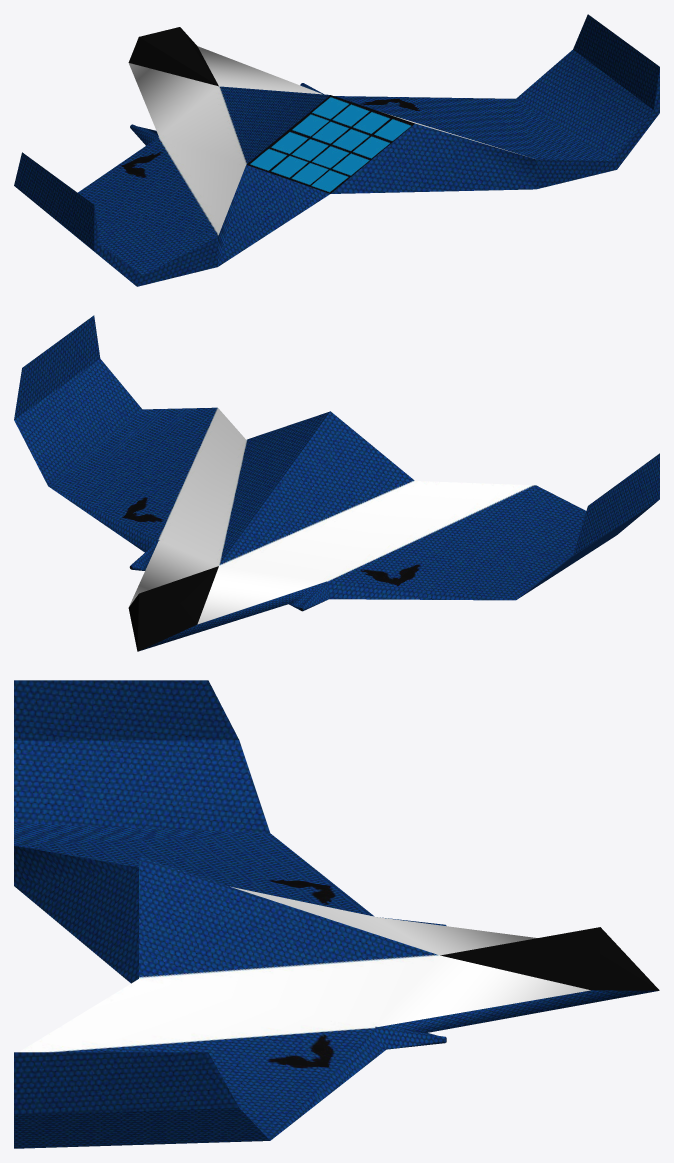
Rendered from spaceship2.fbx.
The picture shows the model from 3 angles, top to bottom: view 1: azimuth 30°, elevation 25°; view 2: azimuth 150°, elevation 25°; view 3: azimuth 270°, elevation 25°; orthographic projection. The views are drawn at different scales.
Parts seen in each view (by area): view 1: polySurface4; view 2: polySurface4; view 3: polySurface4.
Boxes of the visible parts, box(x1,y1,x2,y2) form: polySurface4: box(14, 14, 659, 286); polySurface4: box(14, 315, 659, 651); polySurface4: box(14, 680, 659, 1148).
Size of the model in its own units: 29.93 by 5.02 by 21.95.
